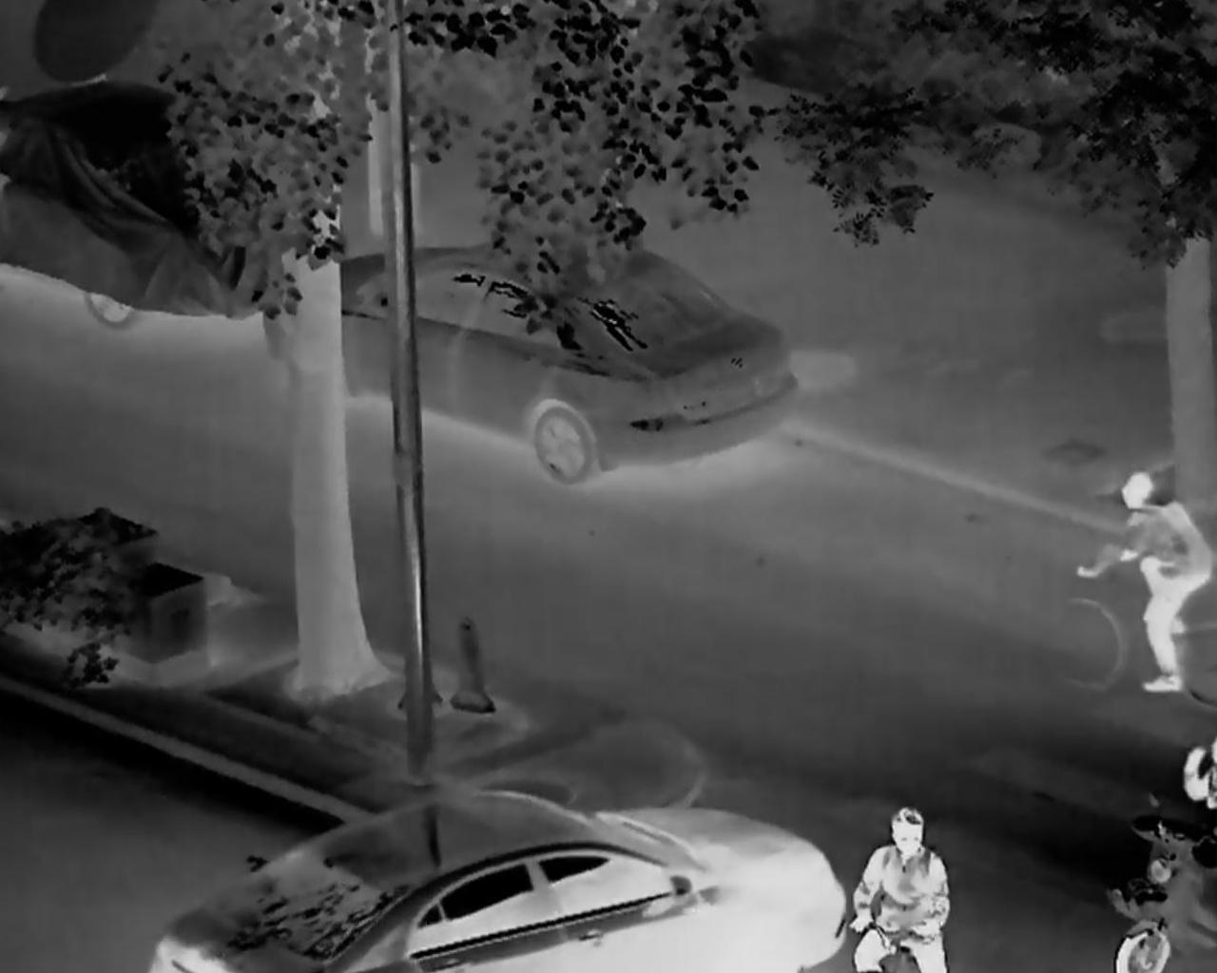person: (1071, 469, 1217, 694), (846, 805, 950, 973)
